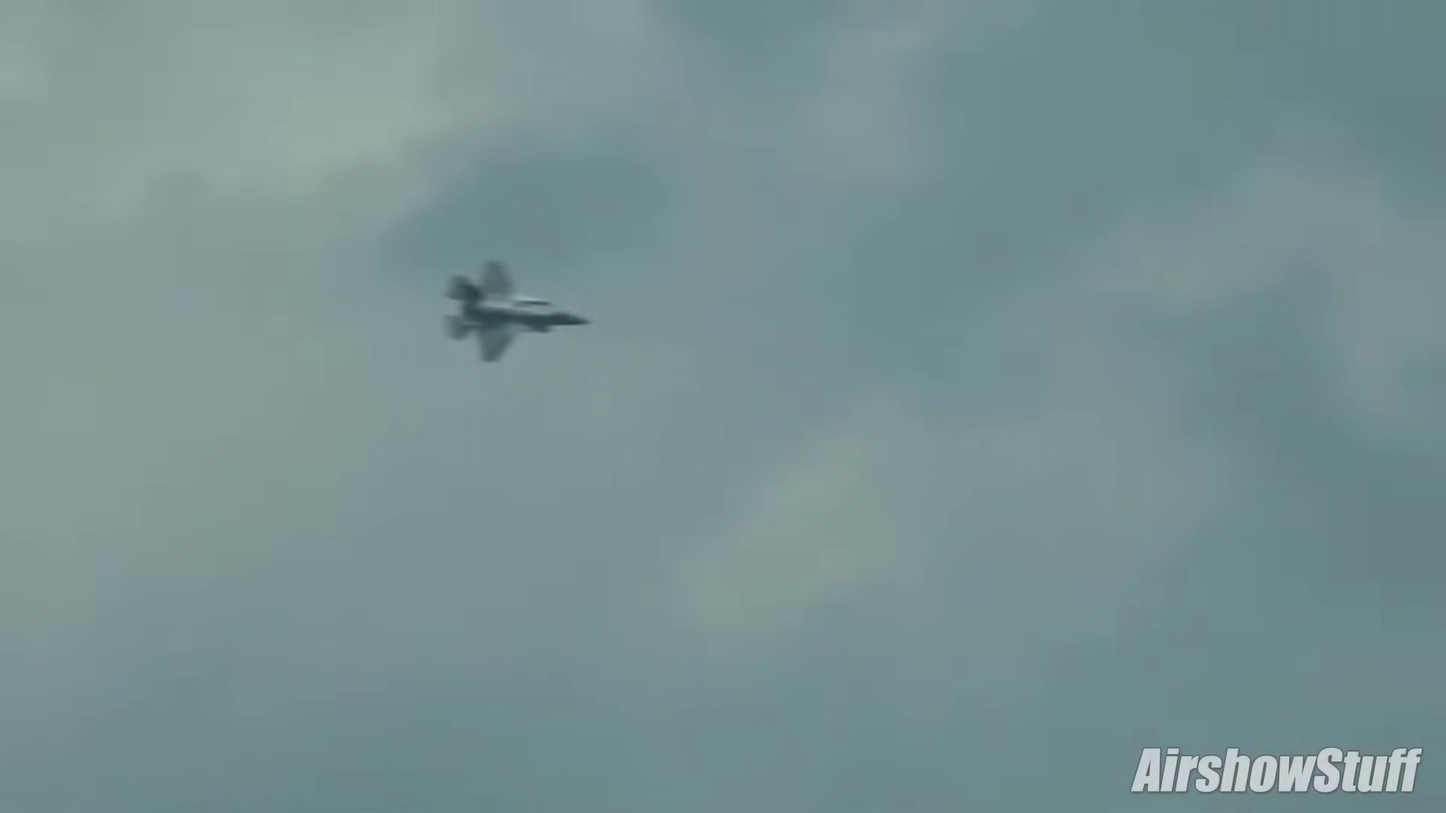F35: (433, 251, 600, 377)
